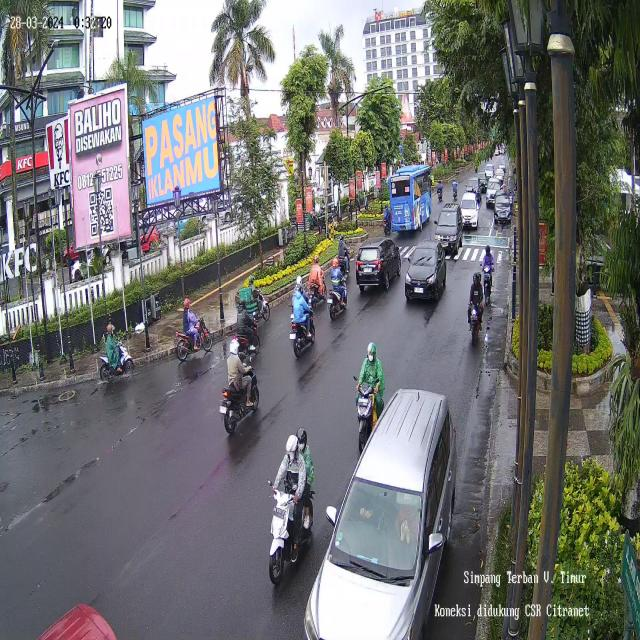bus: (388, 166, 432, 231)
car: (303, 380, 457, 640), (404, 240, 447, 302), (356, 237, 401, 292), (435, 204, 463, 253), (458, 190, 478, 228), (494, 191, 510, 224), (487, 178, 500, 210)
motorcycle: (268, 426, 314, 584), (221, 336, 260, 434), (356, 338, 384, 456), (176, 298, 213, 362), (98, 322, 133, 383), (292, 284, 314, 355), (242, 275, 270, 328), (328, 259, 348, 320), (306, 253, 327, 307), (468, 272, 483, 346), (480, 244, 495, 310), (335, 237, 351, 276)
